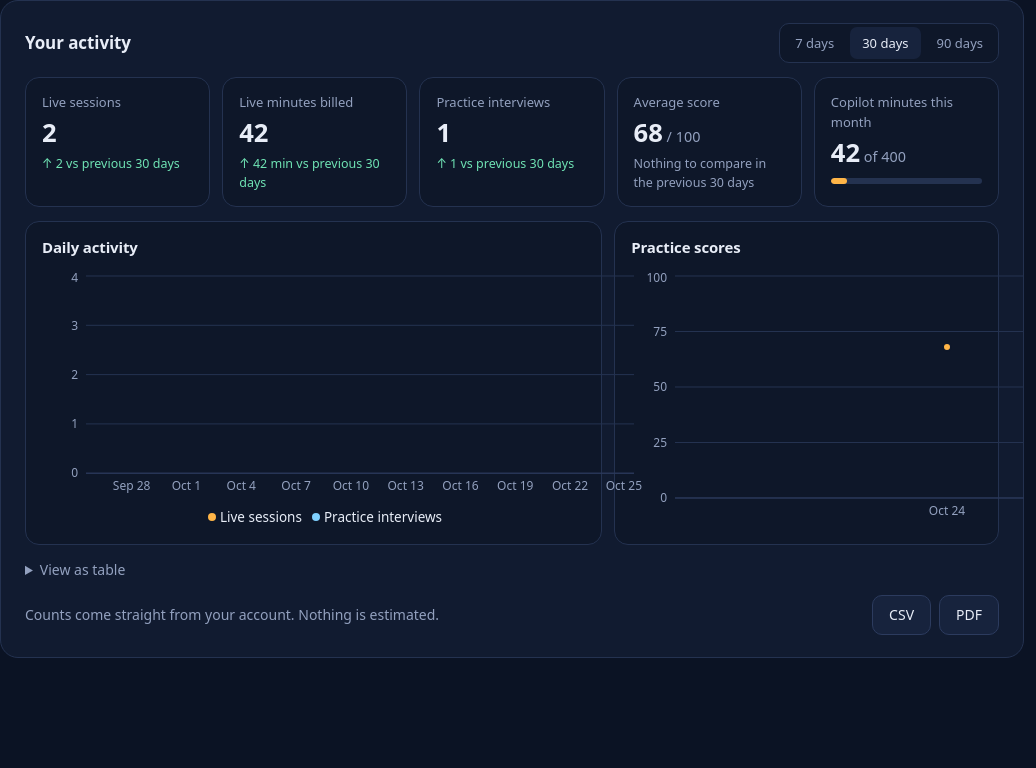
Test: CustomDashboard › switches the range without refetching
Click the button "7 days": (815, 43) [783,27,846,59]
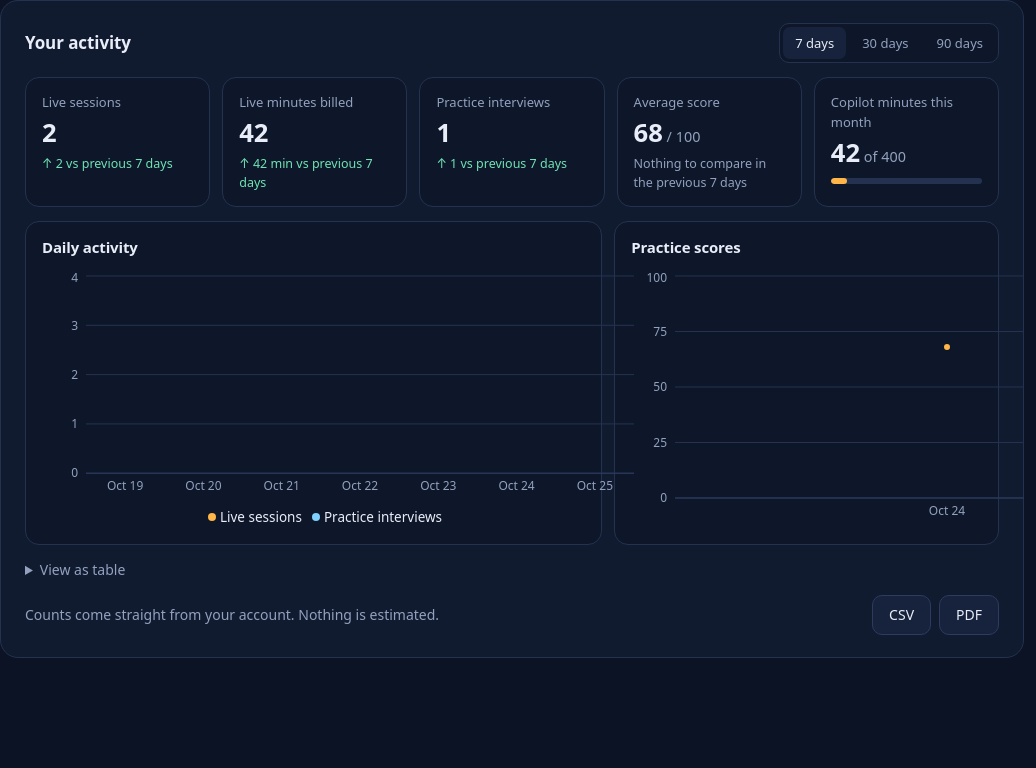
Check: the heading "Daily activity" is shown, box [42,237,138,257]
Check: the button "7 days" is pressed, box [783,27,846,59]
Click the button "90 days": (960, 43) [925,27,995,59]
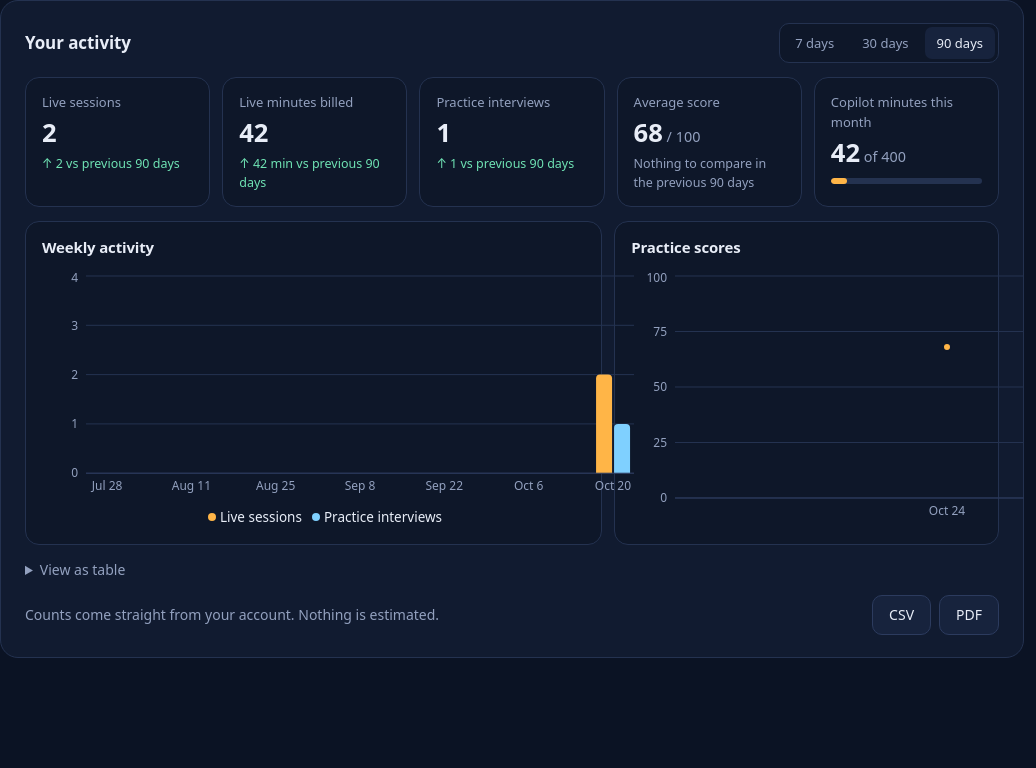
Check: the heading "Weekly activity" is shown, box [42,237,154,257]
